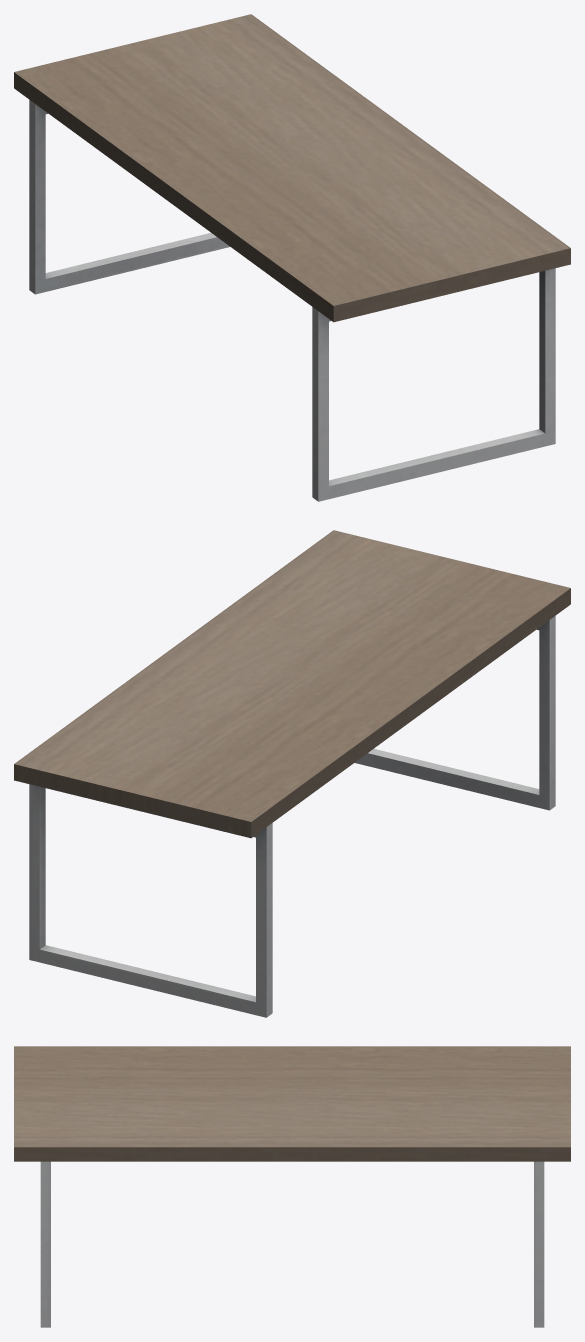
File: Table_Rectangle.gltf
3 views of the same model, one above another, from view 1: azimuth 30°, elevation 25°; view 2: azimuth 150°, elevation 25°; view 3: azimuth 270°, elevation 25° (orthographic). The views are drawn at different scales.
Parts seen in each view (by area): view 1: rectangleTable; view 2: rectangleTable; view 3: rectangleTable.
Part boxes in pixels (x1,y1,x2,y2): rectangleTable: (14,14,570,501); rectangleTable: (14,530,570,1017); rectangleTable: (14,1046,570,1327).
Bounding box in the file's own units: 9 × 7.5 × 21.
1 material, 1 textured.
